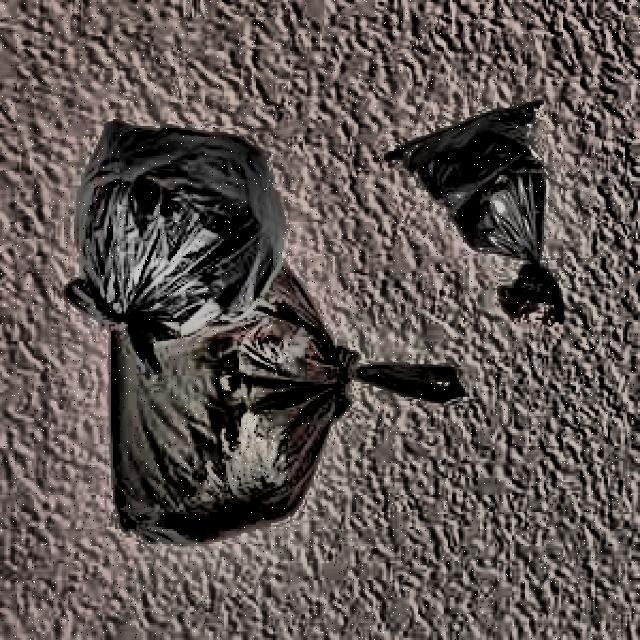Trashbag: (105, 293, 354, 555), (376, 92, 570, 330), (73, 115, 290, 323)
